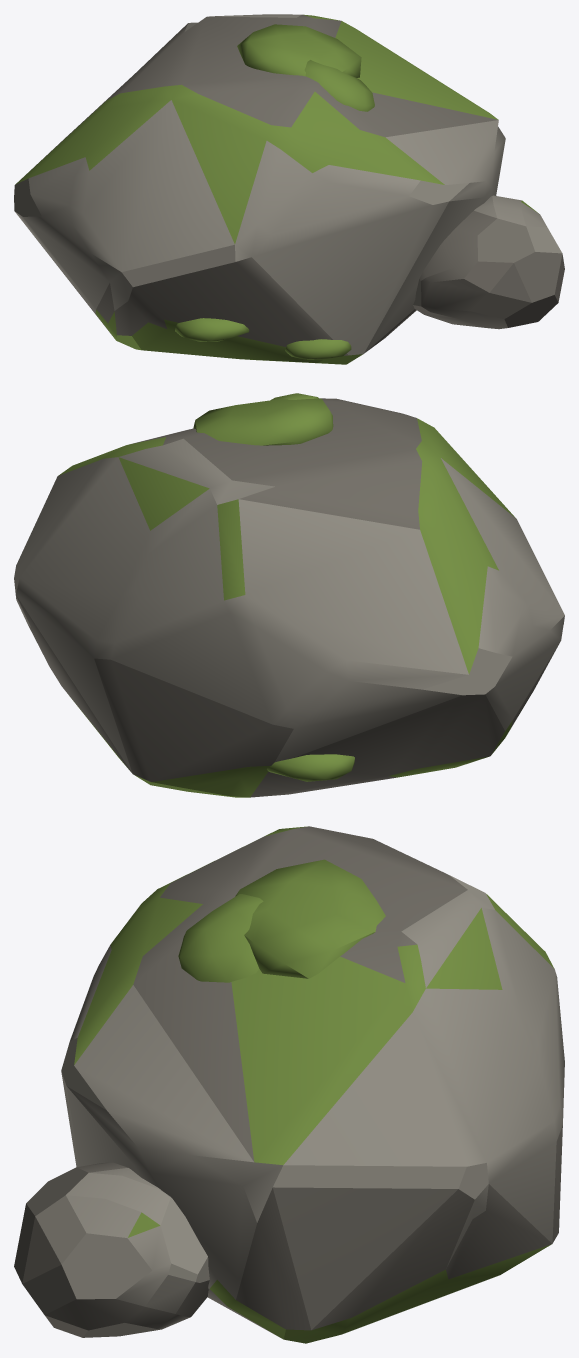
File: rock_a.glb
The picture shows the model from 3 angles, top to bottom: view 1: azimuth 30°, elevation 25°; view 2: azimuth 150°, elevation 25°; view 3: azimuth 270°, elevation 25°; orthographic projection. The views are drawn at different scales.
Visible parts, largest first — view 1: rock_a, rock_a_moss; view 2: rock_a, rock_a_moss; view 3: rock_a, rock_a_moss.
Part boxes in pixels (bbox=[...]): rock_a: bbox=[14, 14, 564, 364]; rock_a_moss: bbox=[175, 24, 374, 359]; rock_a: bbox=[14, 398, 564, 797]; rock_a_moss: bbox=[193, 393, 354, 781]; rock_a: bbox=[14, 826, 564, 1343]; rock_a_moss: bbox=[178, 859, 385, 982].
Size of what is drawn, in the model's own units: 0.8 by 0.4817 by 0.6677.
